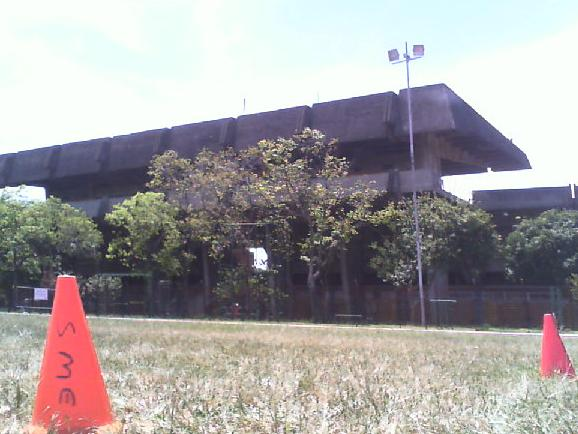0 cone: (24, 274, 122, 434), (539, 314, 578, 381)
